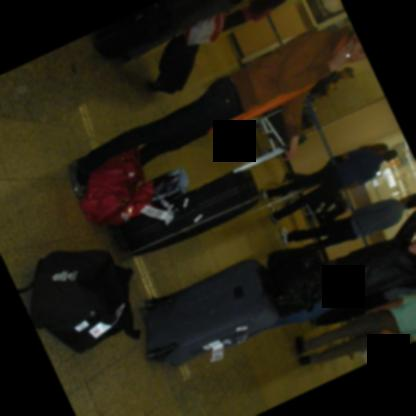backpack: (31, 249, 141, 352), (82, 146, 153, 225)
handbag: (28, 250, 144, 355), (259, 242, 342, 318)
suitcase: (139, 259, 281, 371), (115, 169, 260, 257), (156, 34, 203, 91)
